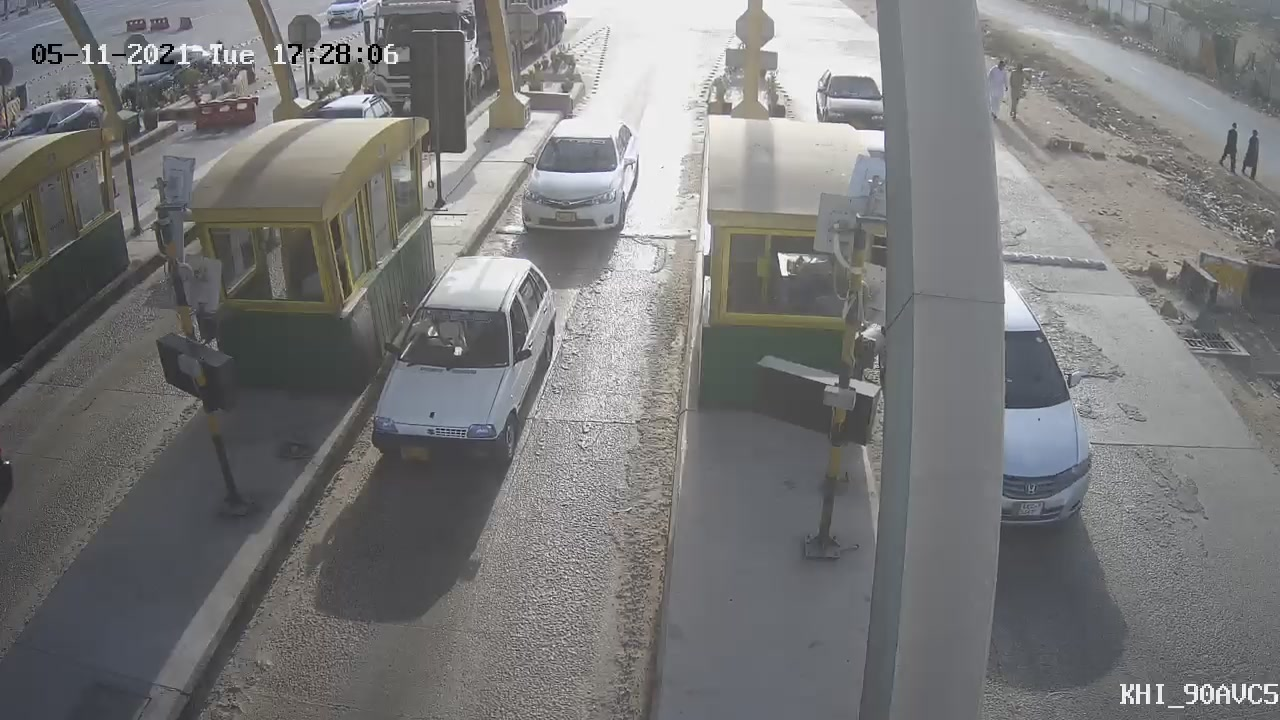F1: (353, 239, 579, 496), (500, 99, 657, 250)
